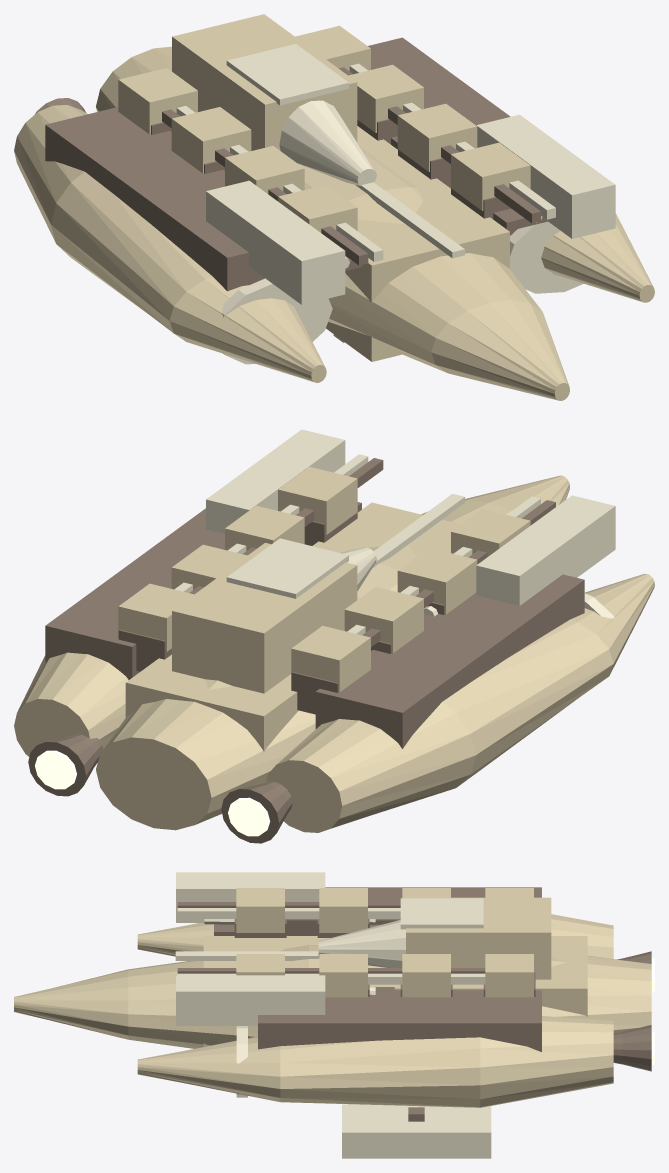
3 views of the same model, one above another, from view 1: azimuth 30°, elevation 25°; view 2: azimuth 150°, elevation 25°; view 3: azimuth 270°, elevation 25° (orthographic). The views are drawn at different scales.
Size of the model in its own units: 15.52 by 6.87 by 24.71.
